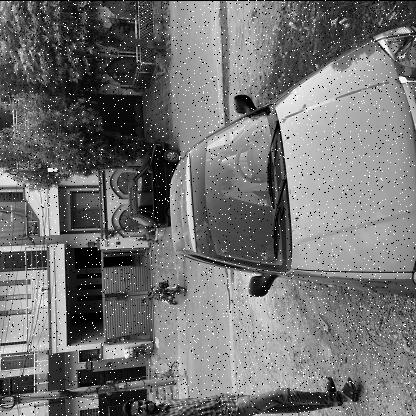no_seatbelt: (204, 157, 258, 189)
